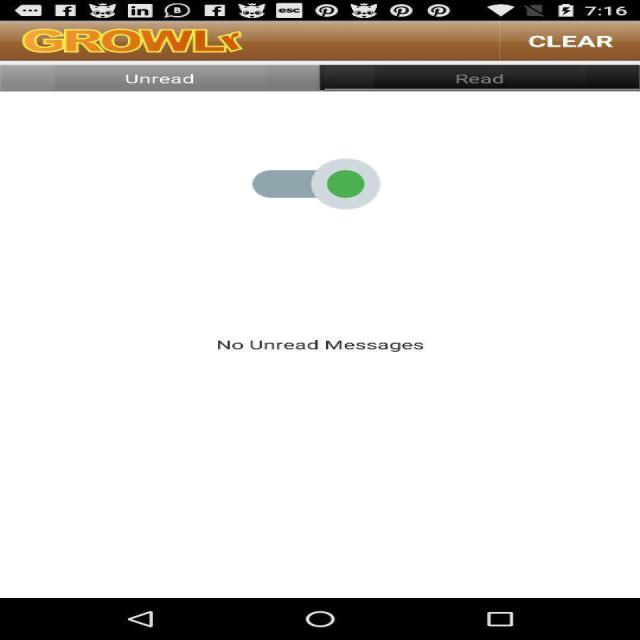social proof: (252, 137, 380, 231)
